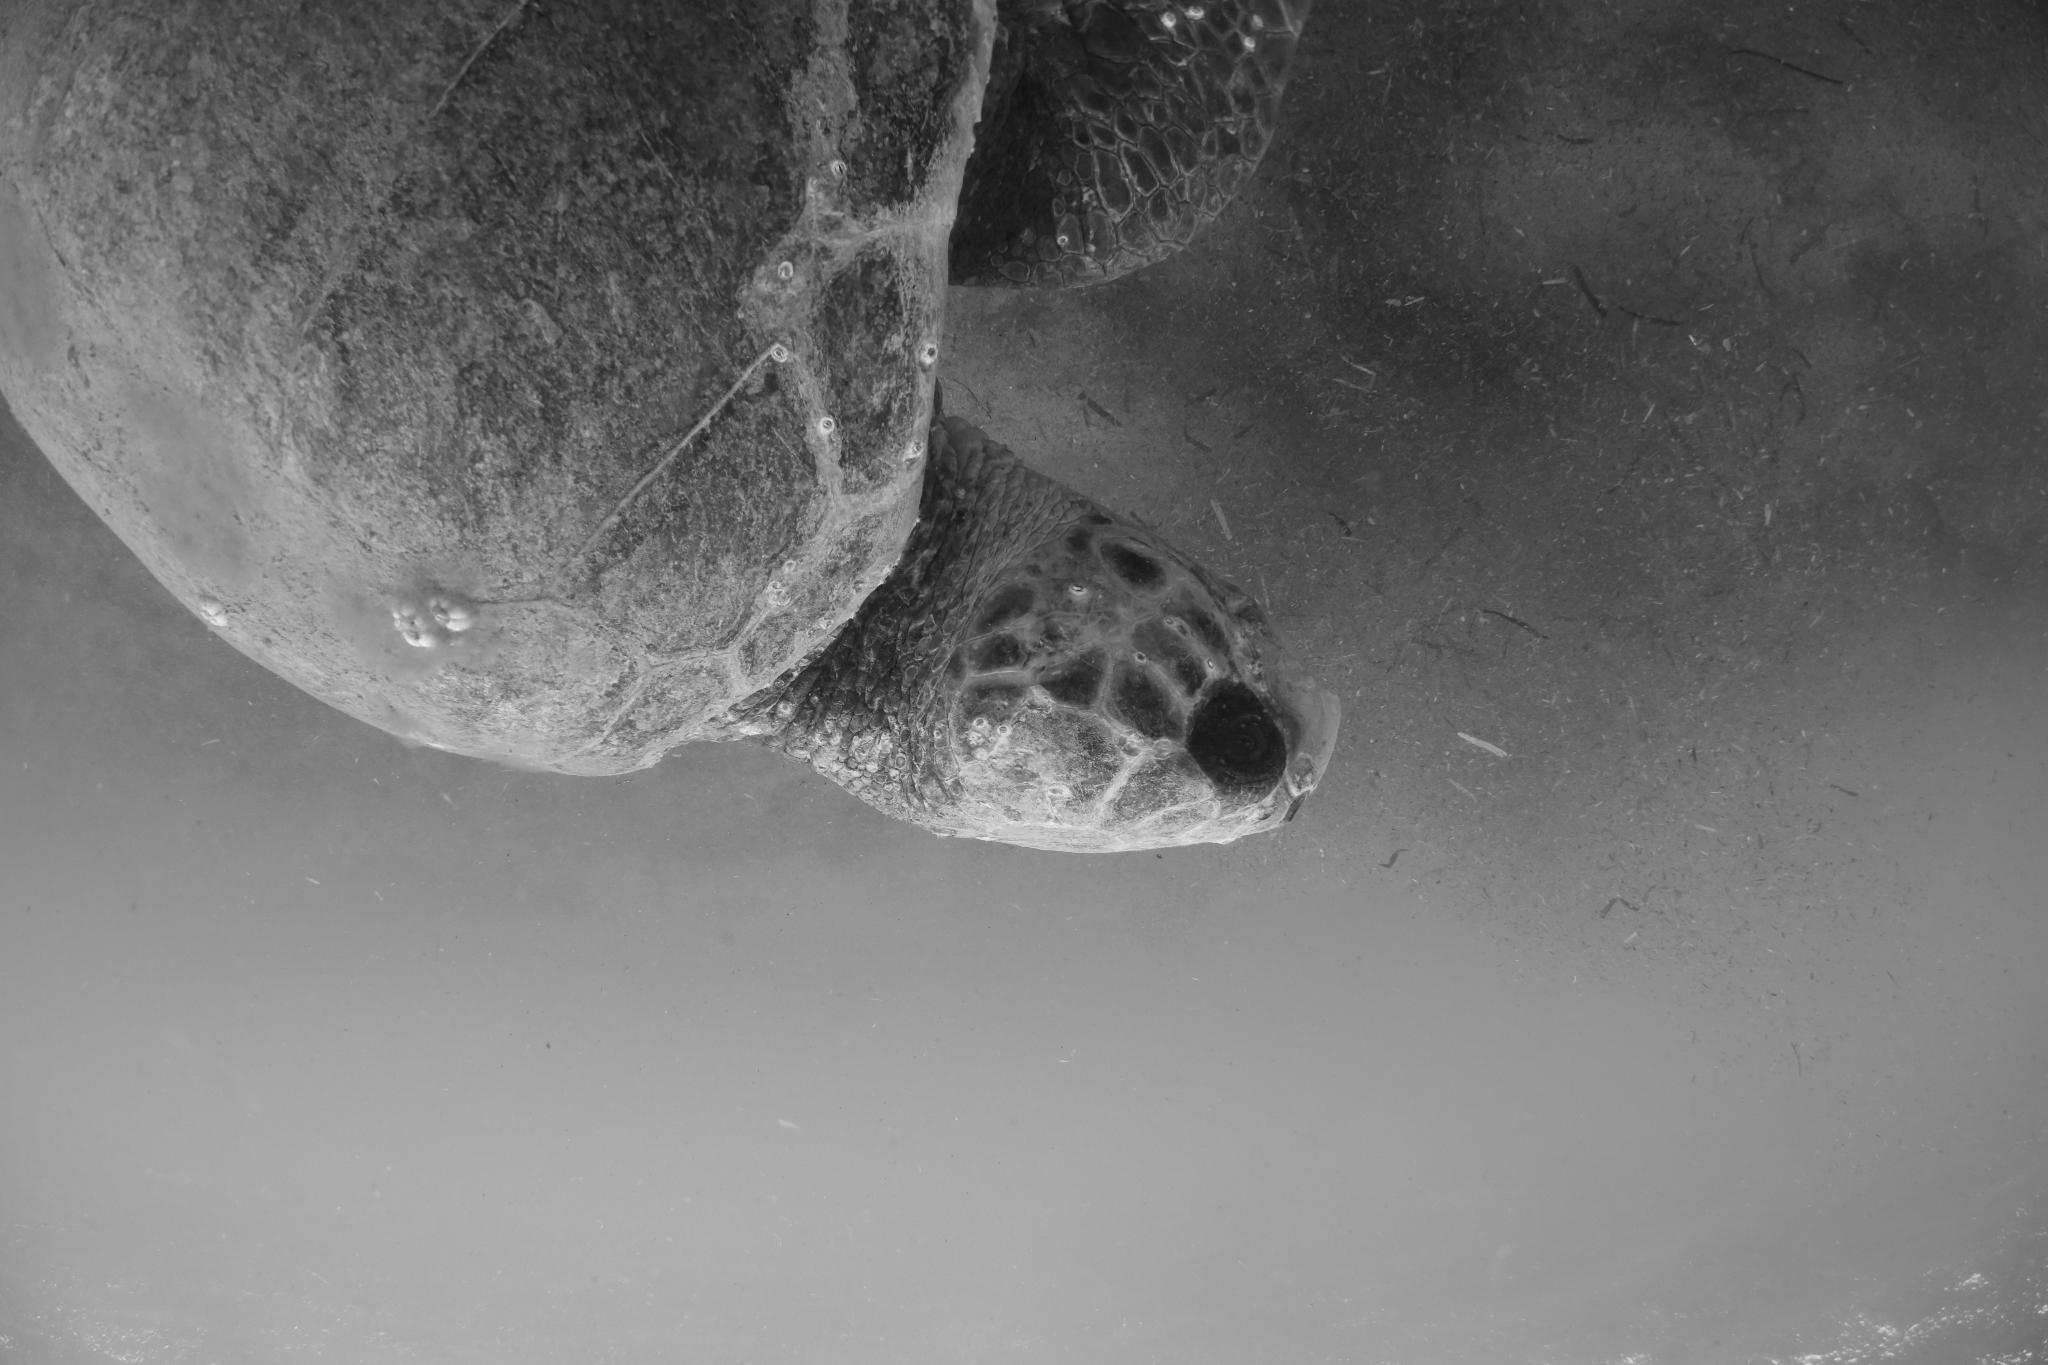Head: (777, 418, 1341, 852)
